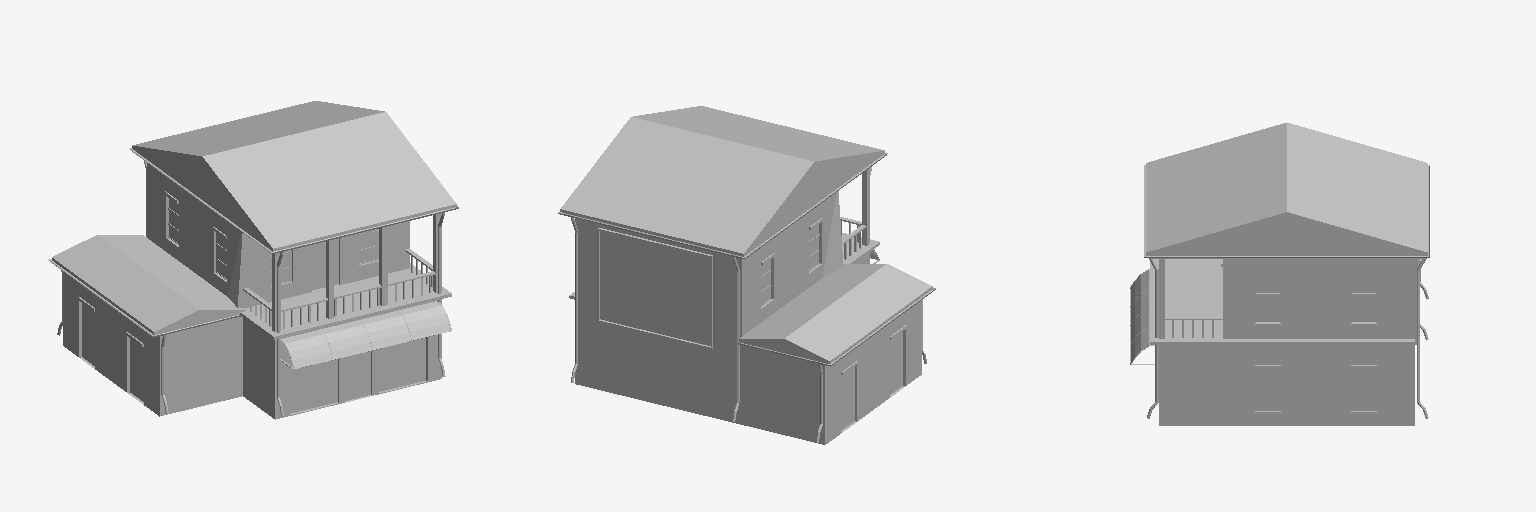
The model's file is edificio 3.obj.
3 renders of one model, left to right at view 1: azimuth 30°, elevation 25°; view 2: azimuth 150°, elevation 25°; view 3: azimuth 270°, elevation 25°, orthographic.
Visible parts, largest first — view 1: edificio_3:LPBuildX12r; view 2: edificio_3:LPBuildX12r; view 3: edificio_3:LPBuildX12r.
Part boxes in pixels (x1,y1,x2,y2): edificio_3:LPBuildX12r: (48, 101, 458, 419); edificio_3:LPBuildX12r: (558, 106, 935, 444); edificio_3:LPBuildX12r: (1130, 123, 1429, 425).
Bounding box in the file's own units: 33.56 × 25.86 × 32.21.